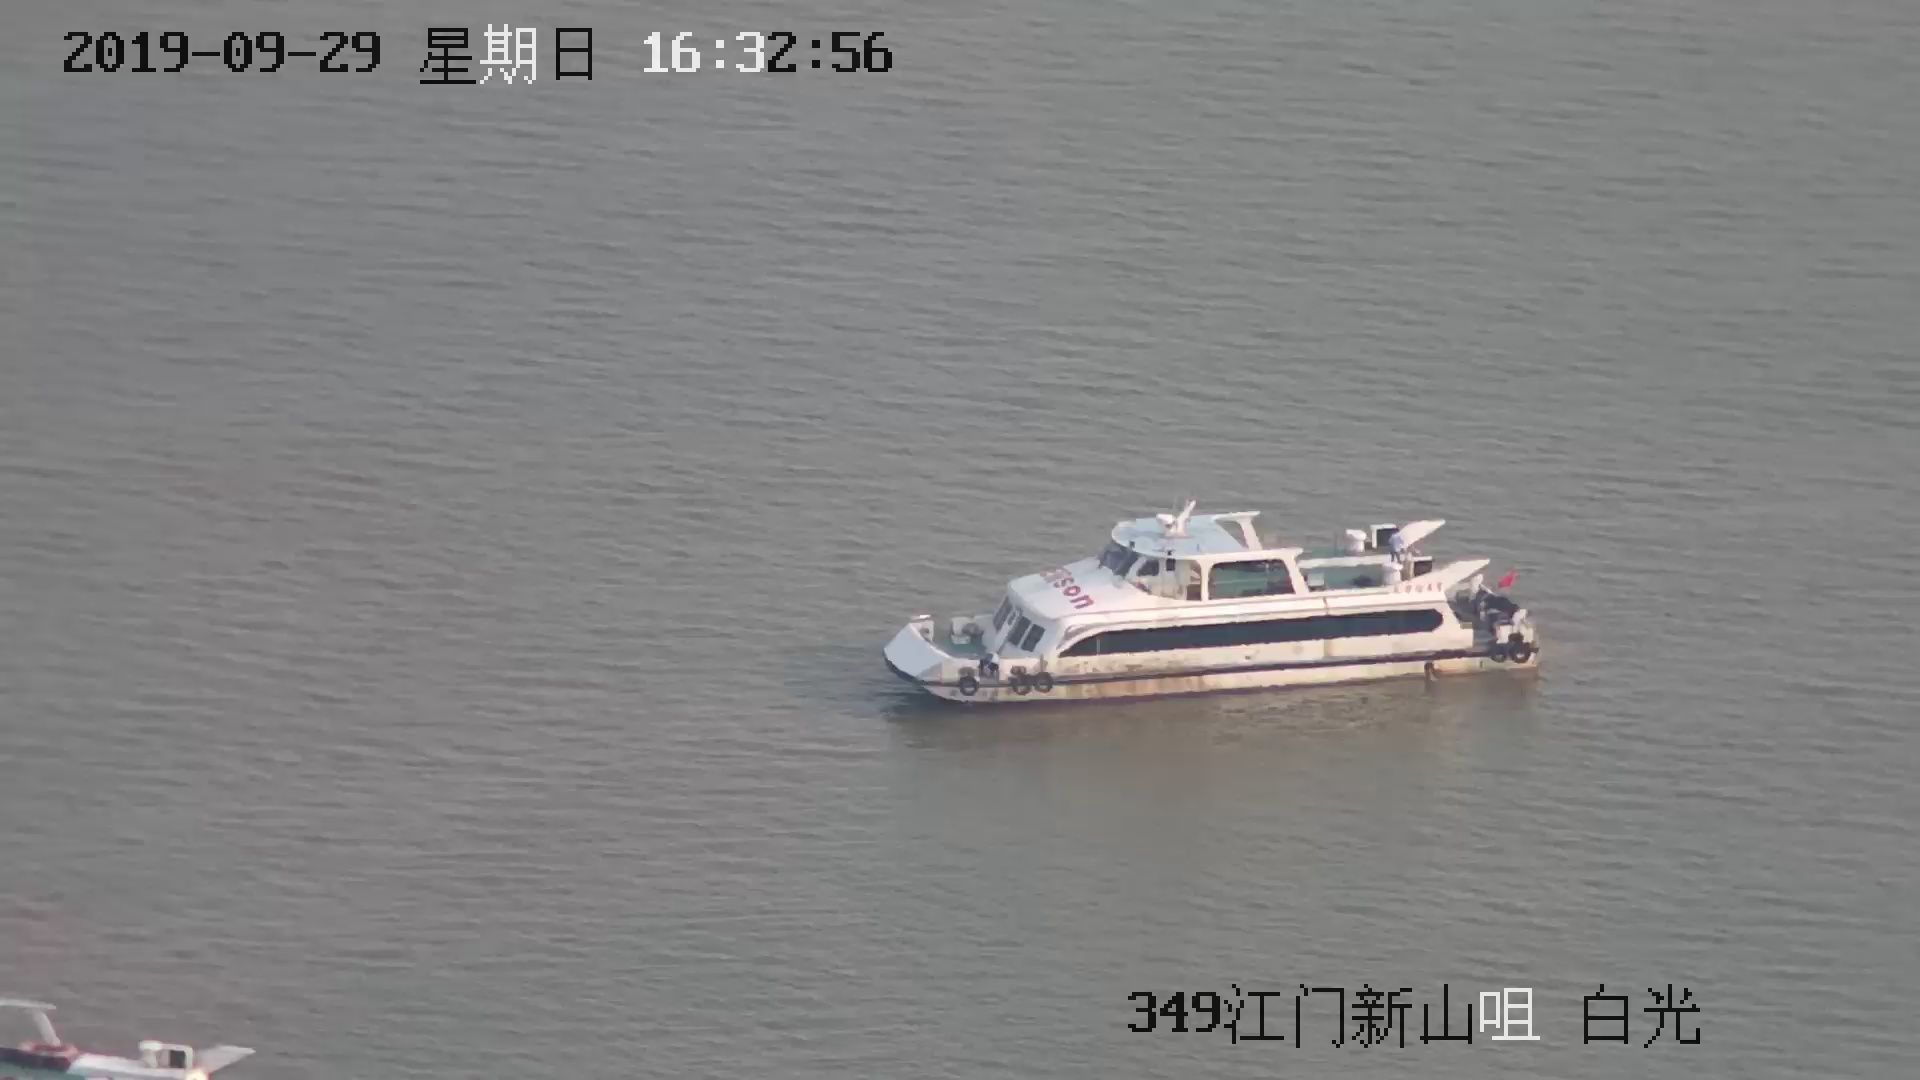ship: (881, 460, 1544, 705)
